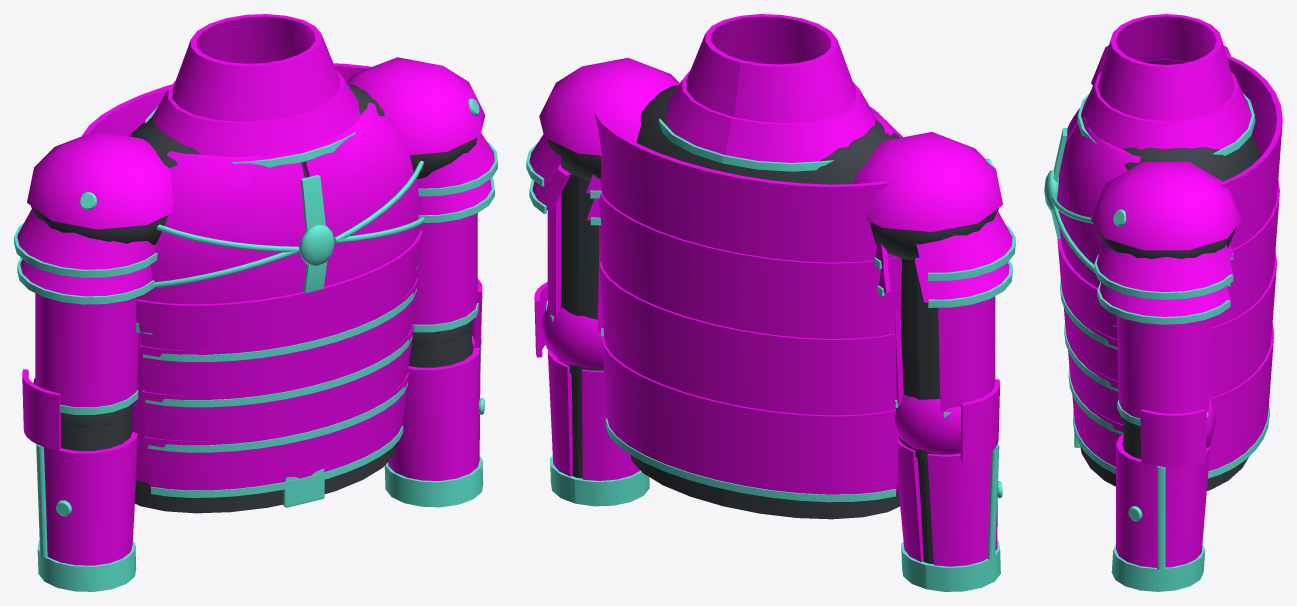
The model's file is porte_armure5_plastron.glb.
The picture shows the model from 3 angles, left to right: view 1: azimuth 30°, elevation 25°; view 2: azimuth 150°, elevation 25°; view 3: azimuth 270°, elevation 25°; orthographic projection. The views are drawn at different scales.
Parts seen in each view (by area): view 1: poitrine__plastron_teinte.010, ventre__plastron_teinte.010, avantbras_d__plastron_teinte.010, poitrine__plastron_nano_lueur.002, bras_d__plastron_teinte.010, avantbras_g__plastron_teinte.010, ventre__plastron_nano_lueur.002, bras_g__plastron_teinte.010, poitrine__plastron_teinte_sombre.008, avantbras_d__plastron_nano_lueur.002, ventre__plastron_teinte_sombre.008, avantbras_g__plastron_nano_lueur.002 (+3 smaller); view 2: poitrine__plastron_teinte.010, ventre__plastron_teinte.010, avantbras_d__plastron_teinte.010, avantbras_g__plastron_teinte.010, poitrine__plastron_teinte_sombre.008, bras_d__plastron_teinte.010, bras_g__plastron_teinte_sombre.008, bras_d__plastron_teinte_sombre.008, ventre__plastron_teinte_sombre.008, poitrine__plastron_nano_lueur.002, avantbras_d__plastron_nano_lueur.002, avantbras_g__plastron_nano_lueur.002 (+4 smaller); view 3: poitrine__plastron_teinte.010, ventre__plastron_teinte.010, avantbras_g__plastron_teinte.010, bras_g__plastron_teinte.010, poitrine__plastron_nano_lueur.002, poitrine__plastron_teinte_sombre.008, avantbras_g__plastron_nano_lueur.002, ventre__plastron_nano_lueur.002, ventre__plastron_teinte_sombre.008, avantbras_g__plastron_teinte_sombre.008.
Boxes of the visible parts, box(x1,y1,x2,y2) form: poitrine__plastron_teinte.010: box(17, 14, 494, 323); ventre__plastron_teinte.010: box(130, 230, 423, 490); avantbras_d__plastron_teinte.010: box(22, 369, 137, 565); poitrine__plastron_nano_lueur.002: box(14, 98, 497, 334); bras_d__plastron_teinte.010: box(35, 293, 138, 407); avantbras_g__plastron_teinte.010: box(388, 279, 482, 480); ventre__plastron_nano_lueur.002: box(143, 288, 416, 507); bras_g__plastron_teinte.010: box(412, 213, 477, 324); poitrine__plastron_teinte_sombre.008: box(31, 84, 477, 245); avantbras_d__plastron_nano_lueur.002: box(36, 444, 136, 591); ventre__plastron_teinte_sombre.008: box(135, 444, 395, 513); avantbras_g__plastron_nano_lueur.002: box(384, 338, 484, 507); poitrine__plastron_teinte.010: box(529, 14, 1012, 338); ventre__plastron_teinte.010: box(599, 262, 901, 494); avantbras_d__plastron_teinte.010: box(895, 379, 1000, 566); avantbras_g__plastron_teinte.010: box(534, 282, 640, 480); poitrine__plastron_teinte_sombre.008: box(547, 85, 999, 260); bras_d__plastron_teinte.010: box(894, 296, 995, 412); bras_g__plastron_teinte_sombre.008: box(557, 164, 603, 375); bras_d__plastron_teinte_sombre.008: box(898, 258, 960, 460); ventre__plastron_teinte_sombre.008: box(630, 455, 899, 519); poitrine__plastron_nano_lueur.002: box(526, 118, 1015, 307); avantbras_d__plastron_nano_lueur.002: box(901, 444, 1002, 591); avantbras_g__plastron_nano_lueur.002: box(550, 449, 649, 506); poitrine__plastron_teinte.010: box(1057, 14, 1282, 327); ventre__plastron_teinte.010: box(1057, 239, 1276, 471); avantbras_g__plastron_teinte.010: box(1116, 392, 1216, 567); bras_g__plastron_teinte.010: box(1116, 316, 1210, 418); poitrine__plastron_nano_lueur.002: box(1044, 59, 1255, 327); poitrine__plastron_teinte_sombre.008: box(1096, 134, 1259, 258); avantbras_g__plastron_nano_lueur.002: box(1111, 466, 1204, 591); ventre__plastron_nano_lueur.002: box(1060, 279, 1269, 478); ventre__plastron_teinte_sombre.008: box(1080, 445, 1248, 490); avantbras_g__plastron_teinte_sombre.008: box(1122, 417, 1140, 458).
Size of the model in its own units: 0.6939 by 0.695 by 0.332.
